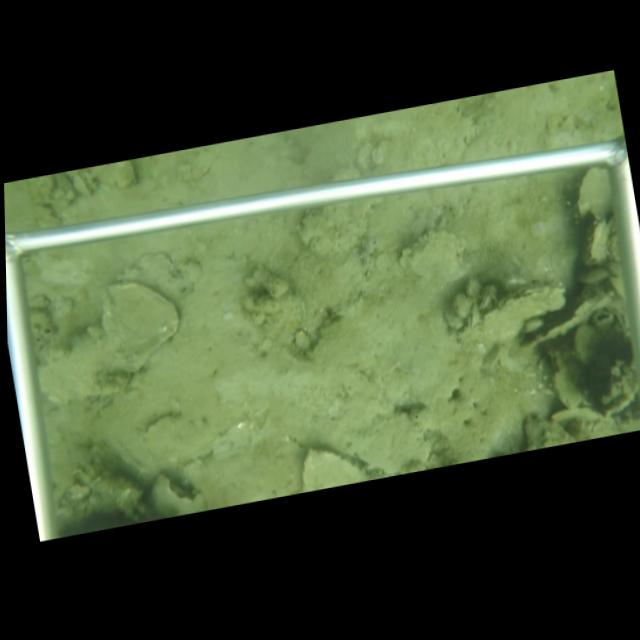Oyster-Closed: (37, 283, 183, 408), (458, 280, 569, 344), (519, 291, 617, 351), (543, 349, 584, 408), (584, 219, 611, 264), (453, 293, 475, 320), (72, 173, 94, 198), (478, 287, 491, 312), (466, 279, 482, 299)
Oyster-Indeterminate: (291, 200, 376, 258), (397, 229, 473, 284), (300, 443, 376, 493), (572, 166, 613, 227), (88, 161, 142, 188)
